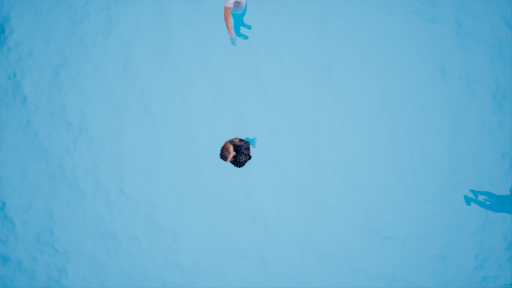person: (221, 1, 258, 45), (220, 136, 258, 170)
